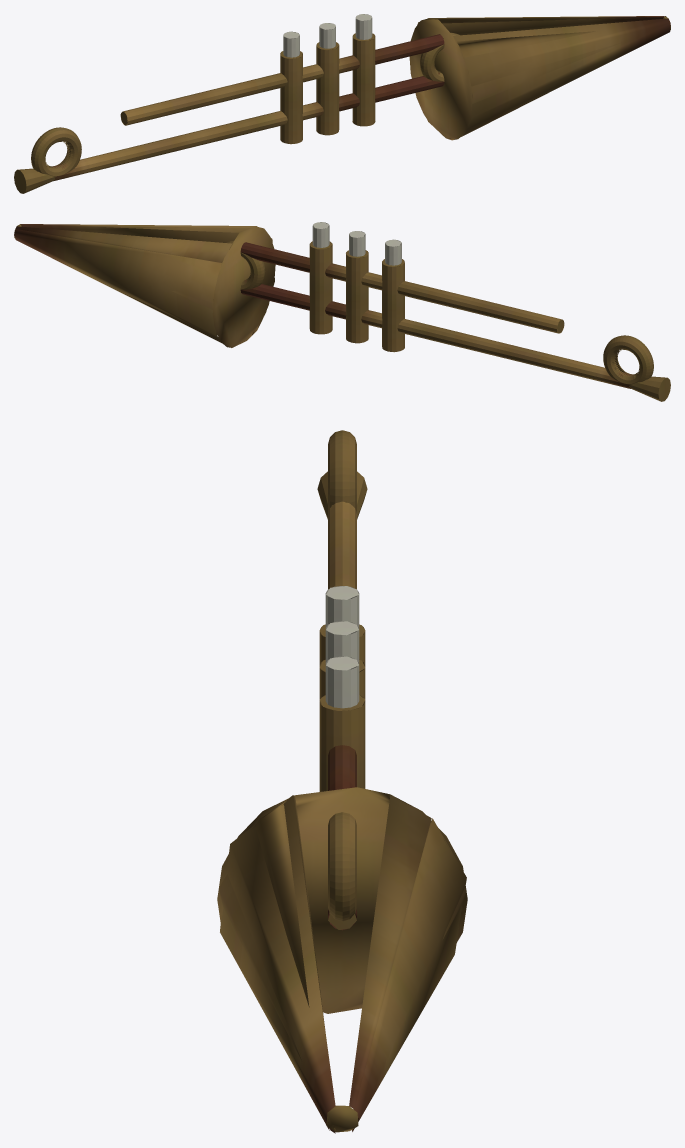
The model's file is MU07_Trumpet.glb.
3 views of the same model, one above another, from view 1: azimuth 30°, elevation 25°; view 2: azimuth 150°, elevation 25°; view 3: azimuth 270°, elevation 25° (orthographic). The views are drawn at different scales.
Parts seen in each view (by area): view 1: MU07_Trumpet; view 2: MU07_Trumpet; view 3: MU07_Trumpet.
Part boxes in pixels (box(x1,y1,x2,y2)): MU07_Trumpet: box(14, 14, 670, 193); MU07_Trumpet: box(14, 222, 670, 401); MU07_Trumpet: box(217, 430, 467, 1133).
Bounding box in the file's own units: 0.6001 × 0.1216 × 0.1007.
Materials: 2 (2 with a texture image).
